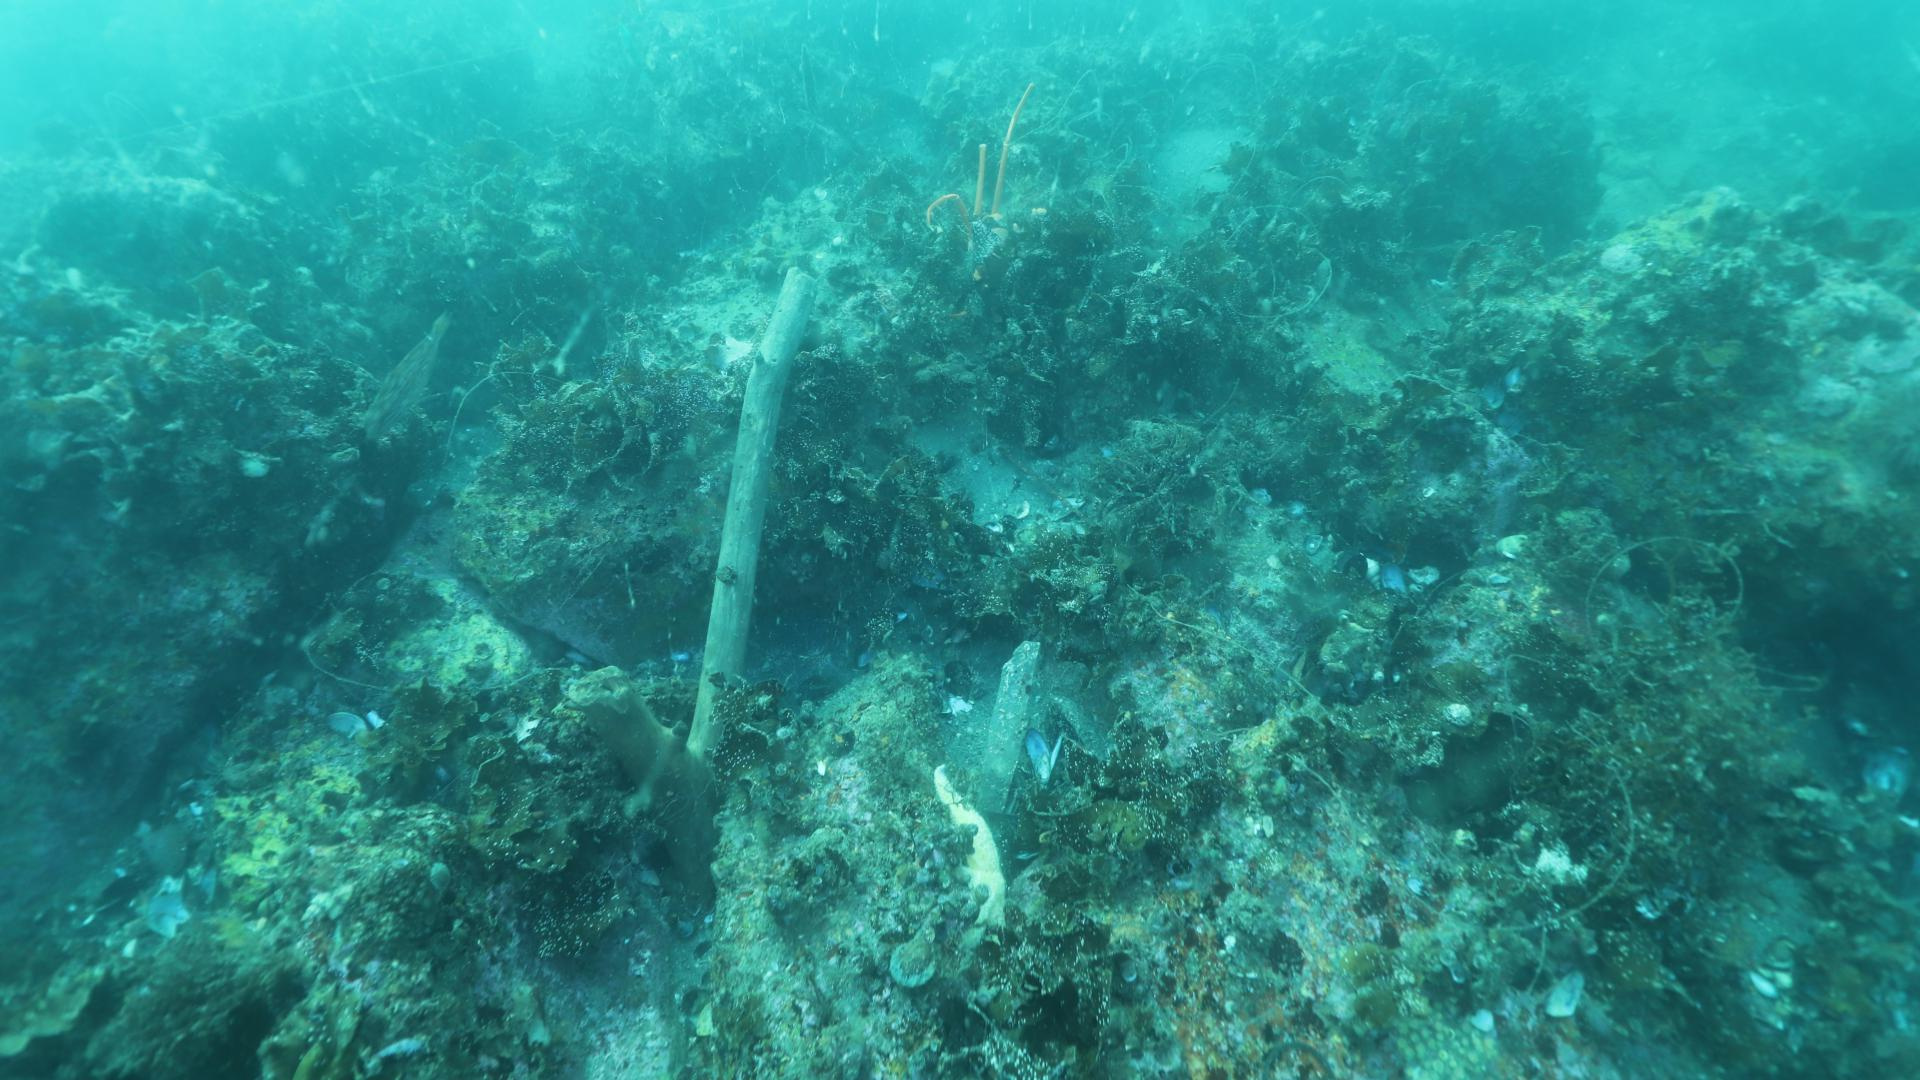wood: (562, 266, 816, 906)
